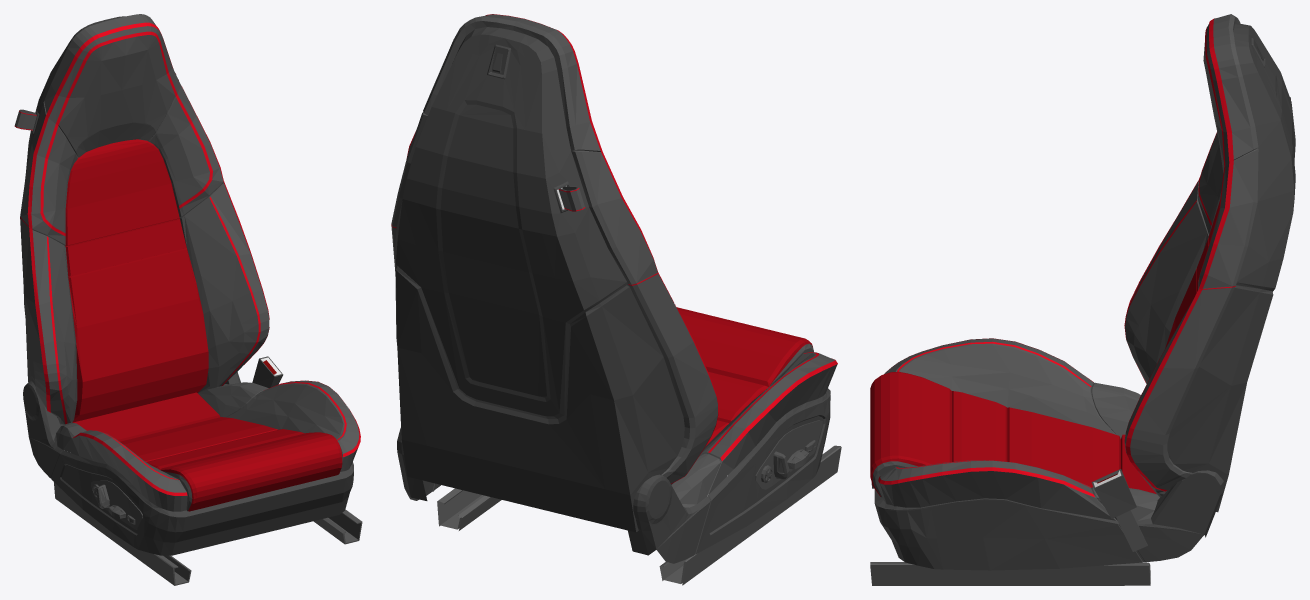
File: seat_FR.glb
The picture shows the model from 3 angles, left to right: view 1: azimuth 30°, elevation 25°; view 2: azimuth 150°, elevation 25°; view 3: azimuth 270°, elevation 25°; orthographic projection. The views are drawn at different scales.
Parts seen in each view (by area): view 1: TwiXeR_992_seat_FR_TwiXeR_992_seat_leather.004_0, TwiXeR_992_seat_FR_TwiXeR_992_seat_leather_2.001_0, TwiXeR_992_seat_FR_TwiXeR_992_plastic.004_0, TwiXeR_992_seat_FR_TwiXeR_992_ID03_stitch_001_111111FF.006_0, TwiXeR_992_seat_FR_TwiXeR_992_int_chrome.007_0, TwiXeR_992_seat_FR_TwiXeR_992_ID05_leather_coarse_mgl_FFFFFF; view 2: TwiXeR_992_seat_FR_TwiXeR_992_plastic.004_0, TwiXeR_992_seat_FR_TwiXeR_992_seat_leather.004_0, TwiXeR_992_seat_FR_TwiXeR_992_seat_leather_2.001_0, TwiXeR_992_seat_FR_TwiXeR_992_int_chrome.007_0, TwiXeR_992_seat_FR_TwiXeR_992_ID05_leather_coarse_mgl_FFFFFF, TwiXeR_992_seat_FR_TwiXeR_992_ID03_stitch_001_111111FF.006_0; view 3: TwiXeR_992_seat_FR_TwiXeR_992_seat_leather.004_0, TwiXeR_992_seat_FR_TwiXeR_992_plastic.004_0, TwiXeR_992_seat_FR_TwiXeR_992_seat_leather_2.001_0, TwiXeR_992_seat_FR_TwiXeR_992_int_chrome.007_0, TwiXeR_992_seat_FR_TwiXeR_992_ID03_stitch_001_111111FF.006_0, TwiXeR_992_seat_FR_TwiXeR_992_ID05_leather_coarse_mgl_FFFFFF.
Part boxes in pixels (x1,y1,x2,y2): TwiXeR_992_seat_FR_TwiXeR_992_seat_leather.004_0: [15, 14, 359, 511]; TwiXeR_992_seat_FR_TwiXeR_992_seat_leather_2.001_0: [65, 139, 342, 511]; TwiXeR_992_seat_FR_TwiXeR_992_plastic.004_0: [23, 16, 353, 555]; TwiXeR_992_seat_FR_TwiXeR_992_ID03_stitch_001_111111FF.006_0: [15, 22, 360, 495]; TwiXeR_992_seat_FR_TwiXeR_992_int_chrome.007_0: [54, 482, 362, 585]; TwiXeR_992_seat_FR_TwiXeR_992_ID05_leather_coarse_mgl_FFFFFF: [91, 356, 283, 529]; TwiXeR_992_seat_FR_TwiXeR_992_plastic.004_0: [395, 27, 830, 563]; TwiXeR_992_seat_FR_TwiXeR_992_seat_leather.004_0: [391, 14, 837, 507]; TwiXeR_992_seat_FR_TwiXeR_992_seat_leather_2.001_0: [676, 307, 812, 445]; TwiXeR_992_seat_FR_TwiXeR_992_int_chrome.007_0: [437, 445, 841, 585]; TwiXeR_992_seat_FR_TwiXeR_992_ID05_leather_coarse_mgl_FFFFFF: [755, 420, 822, 489]; TwiXeR_992_seat_FR_TwiXeR_992_ID03_stitch_001_111111FF.006_0: [391, 14, 837, 483]; TwiXeR_992_seat_FR_TwiXeR_992_seat_leather.004_0: [872, 14, 1290, 521]; TwiXeR_992_seat_FR_TwiXeR_992_plastic.004_0: [874, 23, 1295, 570]; TwiXeR_992_seat_FR_TwiXeR_992_seat_leather_2.001_0: [870, 200, 1220, 496]; TwiXeR_992_seat_FR_TwiXeR_992_int_chrome.007_0: [870, 483, 1150, 585]; TwiXeR_992_seat_FR_TwiXeR_992_ID03_stitch_001_111111FF.006_0: [878, 18, 1235, 497]; TwiXeR_992_seat_FR_TwiXeR_992_ID05_leather_coarse_mgl_FFFFFF: [1091, 469, 1136, 518].
Bounding box in the file's own units: 0.4979 × 0.9015 × 0.6863.
